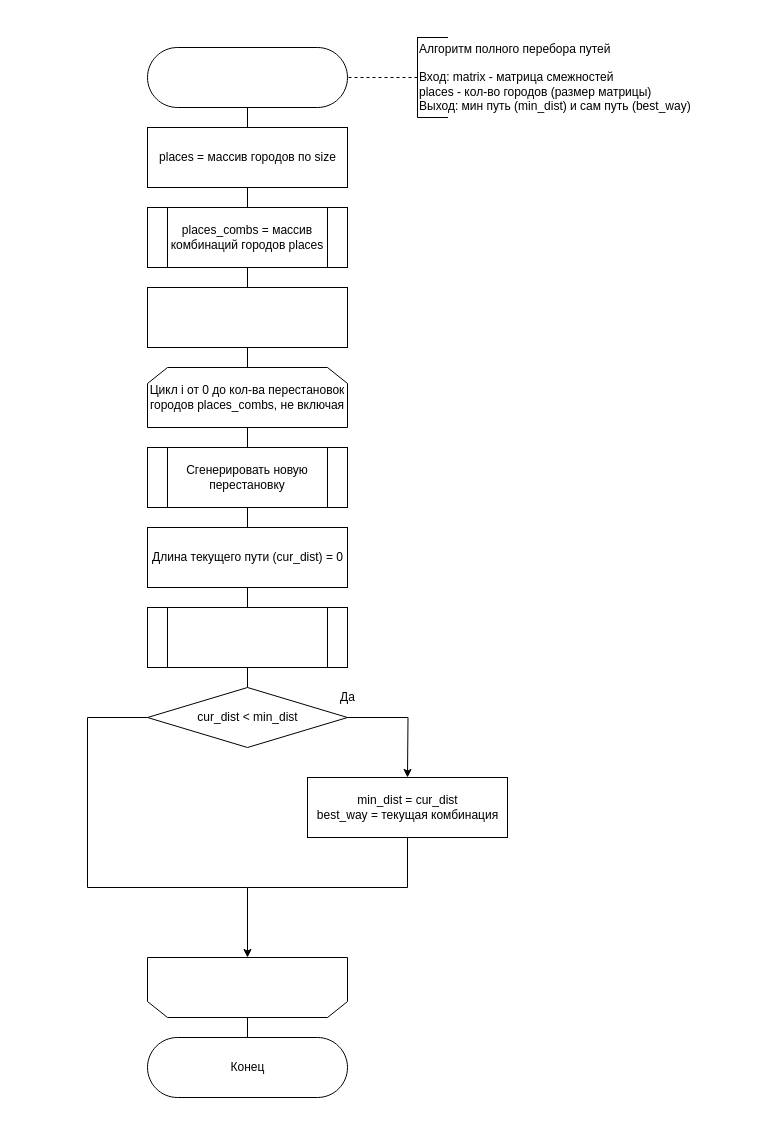
The diagram is 774 pixels wide and 1134 high, and some of its shapes have lost their labels. The box of each missing label's shape, as (x1, y1, x2, y2) in pixels:
Вычислить длину текущего пути: (146, 606, 348, 668)
Инициализация min_dist Инициализация best_way: (146, 286, 348, 348)
Конец цикла i += 1: (146, 956, 348, 1018)
Начало: (146, 46, 348, 108)
